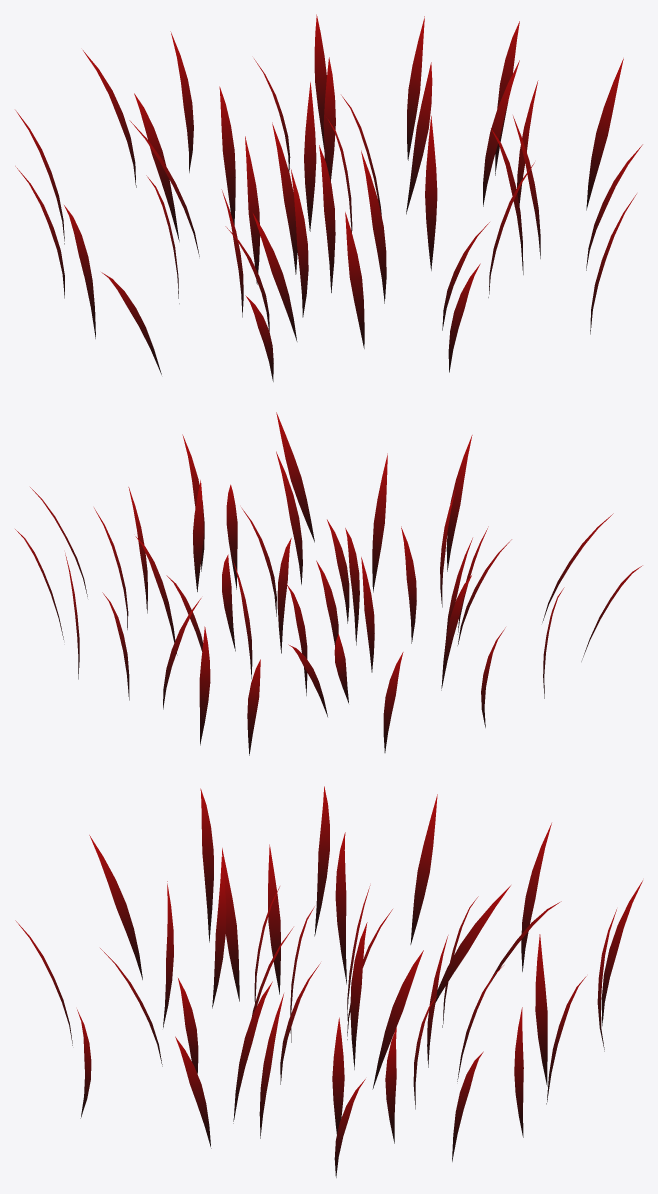
Rendered from new grass.fbx.
3 renders of one model, top to bottom at view 1: azimuth 30°, elevation 25°; view 2: azimuth 150°, elevation 25°; view 3: azimuth 270°, elevation 25°, orthographic. The views are drawn at different scales.
Parts seen in each view (by area): view 1: grass; view 2: grass; view 3: grass.
Part boxes in pixels (x1=…): grass: x1=15, y1=14, x2=642, y2=381; grass: x1=15, y1=412, x2=642, y2=755; grass: x1=15, y1=786, x2=642, y2=1177.
Bounding box in the file's own units: 531 × 121 × 482.
